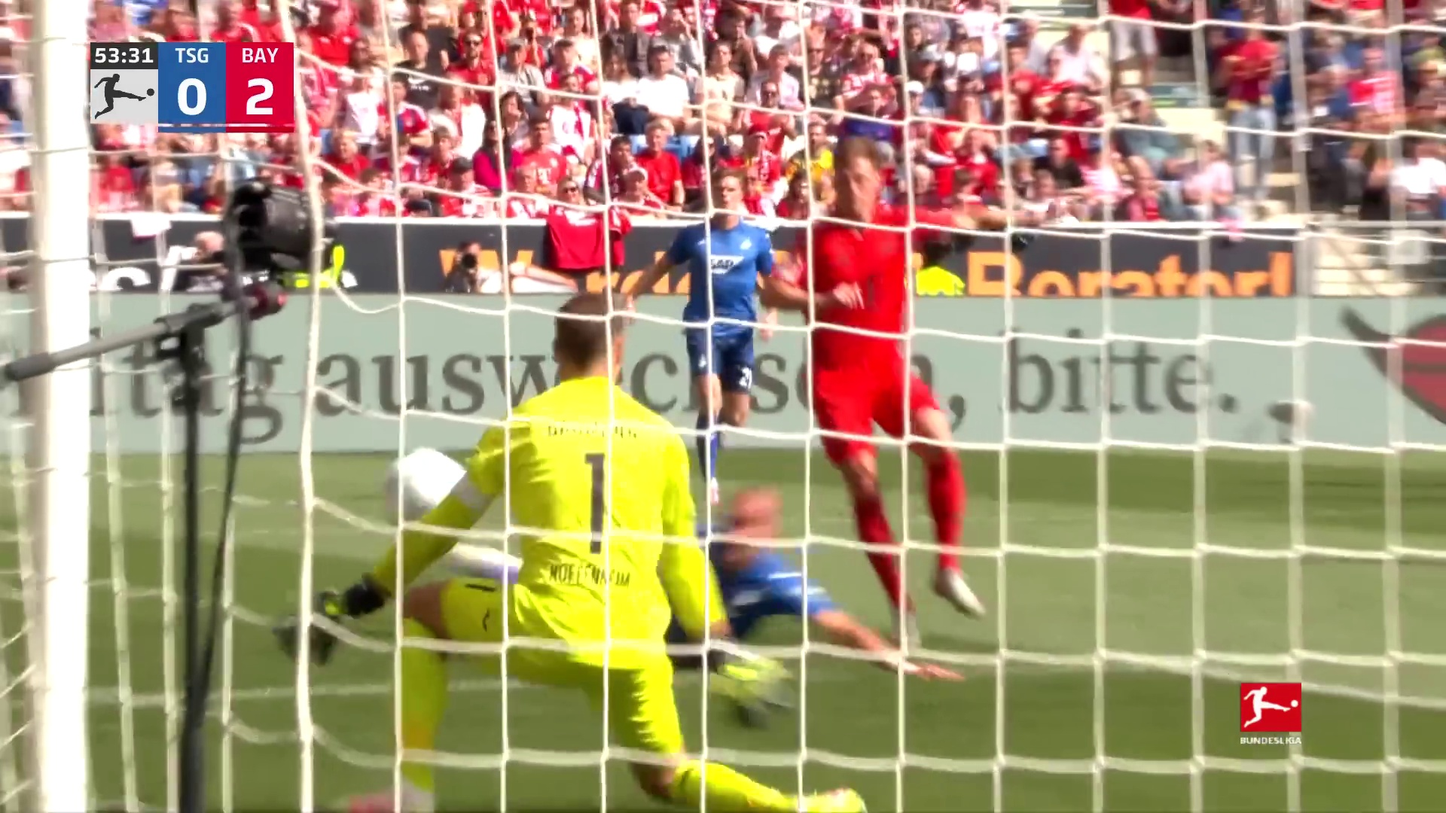ball: (385, 446, 470, 524)
player: (277, 290, 875, 813), (773, 130, 1087, 659), (616, 166, 783, 511)
